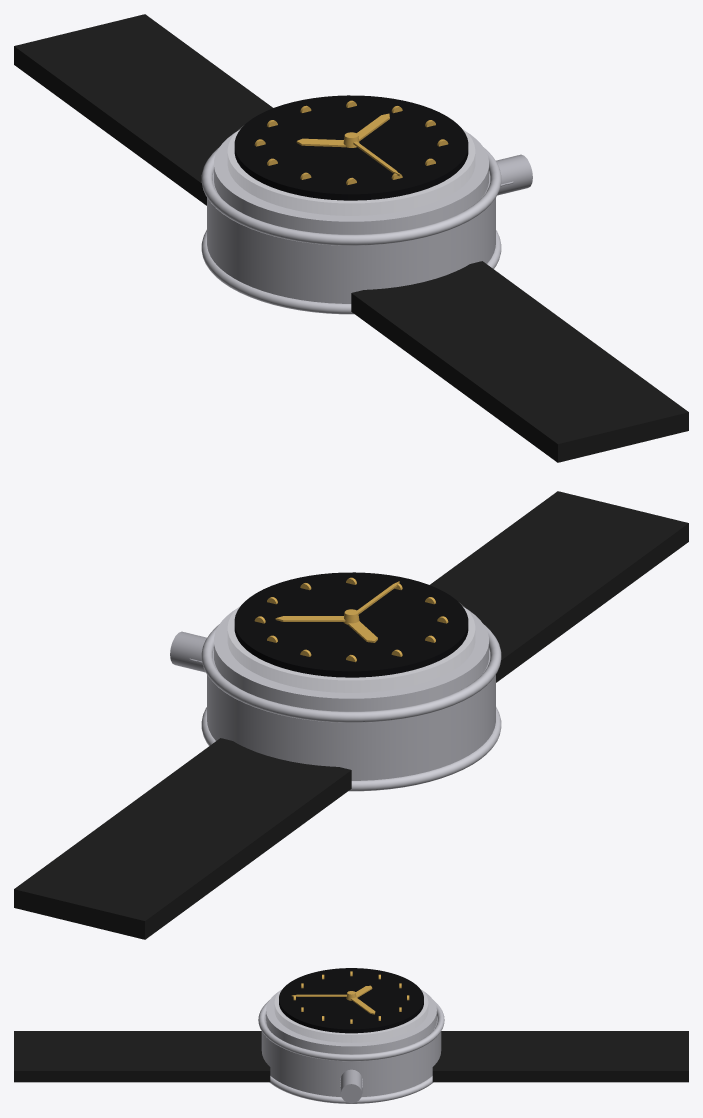
The model's file is aurora-watch.glb.
3 views of the same model, one above another, from view 1: azimuth 30°, elevation 25°; view 2: azimuth 150°, elevation 25°; view 3: azimuth 270°, elevation 25° (orthographic). The views are drawn at different scales.
Size of the model in its own units: 0.0508 by 0.0188 by 0.158.
